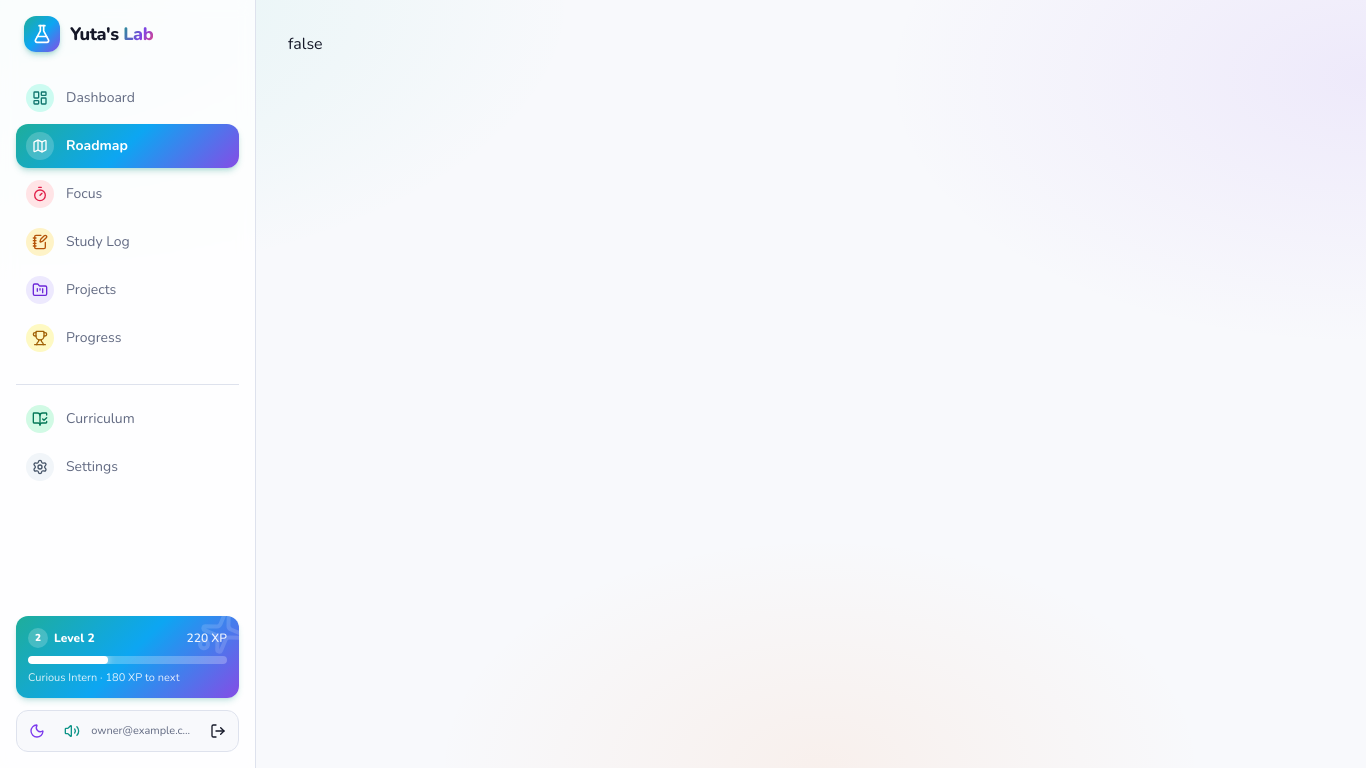
Test: LabShell › adds Curriculum, Settings, identity, and sign-out only for the owner shell
Expected: the text with test id "user-identity" reads "owner@example.com", [91,723,198,738]
Click the button named "Sign out" at point(218, 731), box [203,715,234,747]
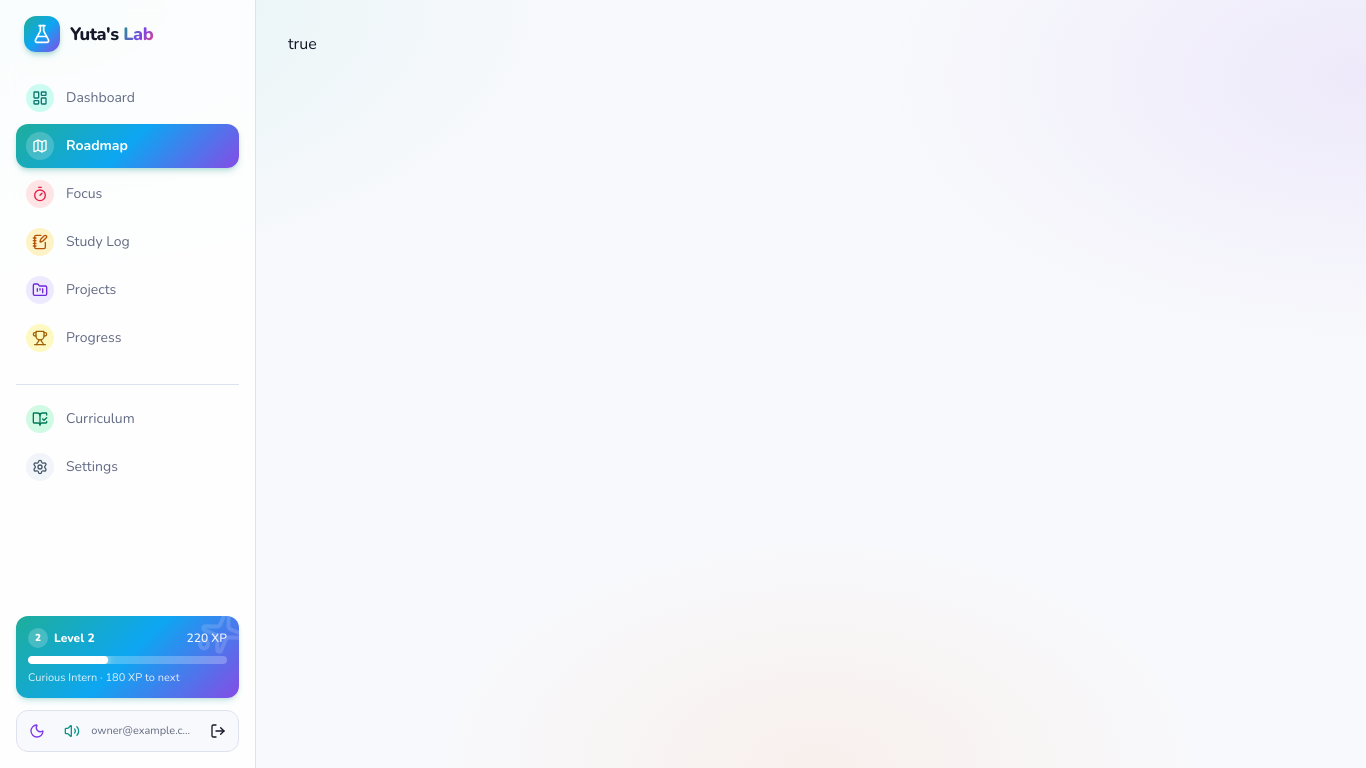
Result: the text named "signed out" reads "true" at [288,33,317,55]
